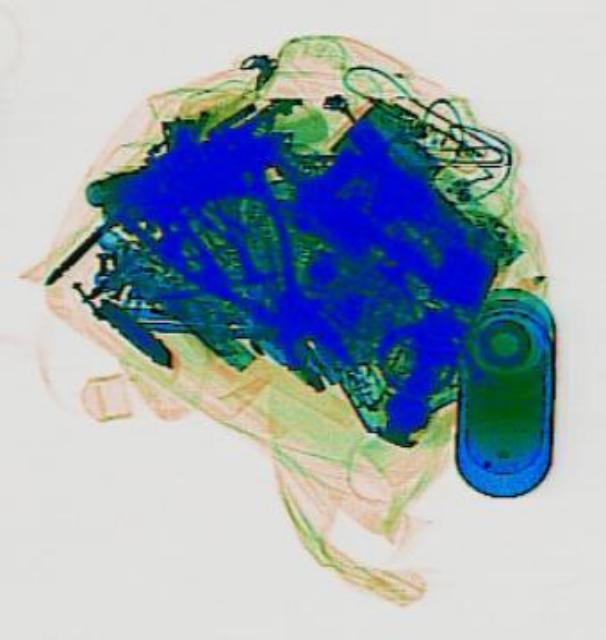Pliers: (109, 130, 379, 412)
